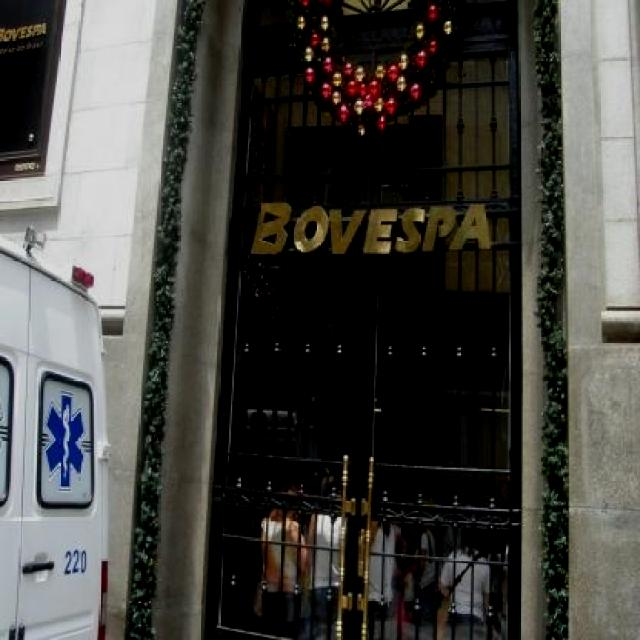Truck: (0, 221, 141, 640)
